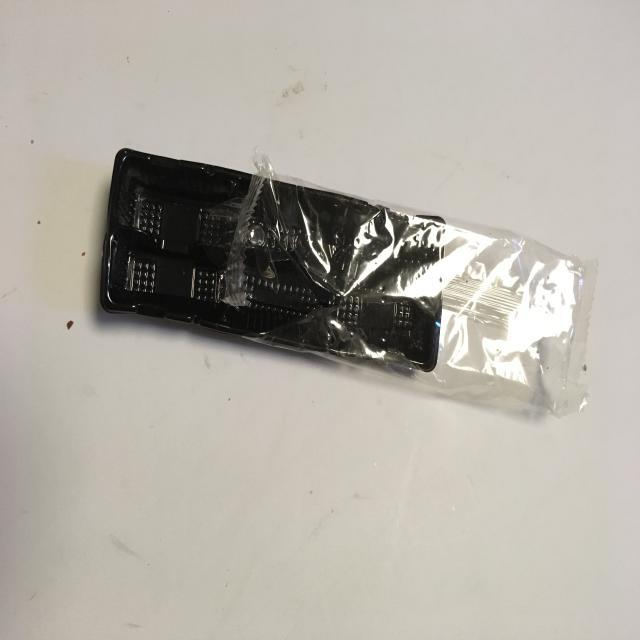plastic: (94, 145, 596, 425)
